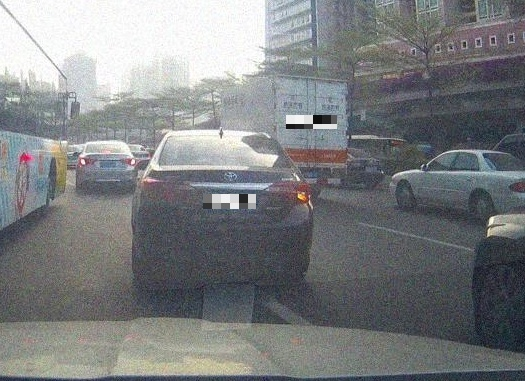L_light: (140, 177, 191, 204), (78, 158, 92, 165)
R_light: (266, 180, 310, 206), (122, 158, 136, 165)
T_light: (216, 160, 240, 166), (101, 150, 111, 154)
day-brake: (77, 140, 137, 192)
day-right: (138, 130, 313, 288)
plate_1: (203, 194, 256, 209)
plate_2: (286, 115, 337, 129)
